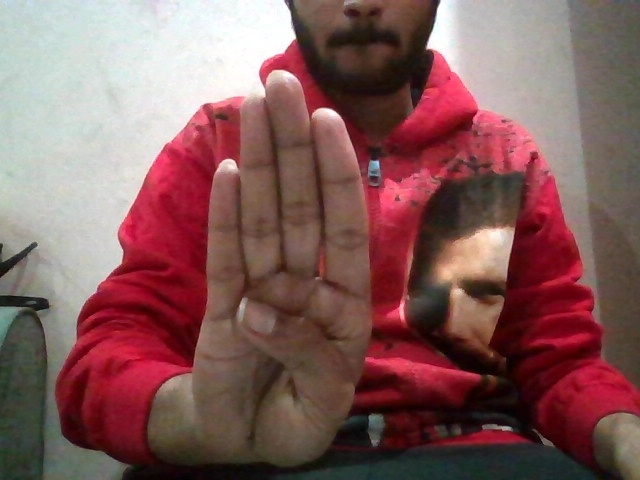B: (170, 63, 399, 470)
